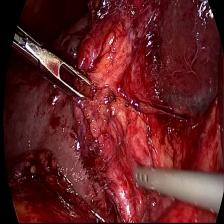Grasper: (22, 38, 95, 116)
Irrigator: (133, 162, 163, 200)
